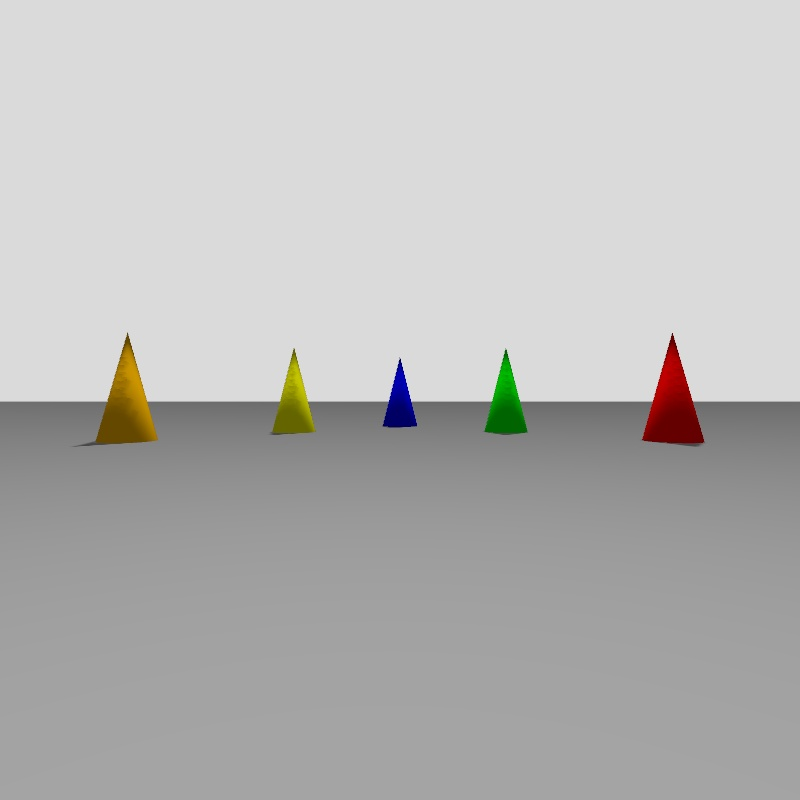Blue_cone: (383, 359, 415, 426)
Green_cone: (487, 350, 526, 432)
Orange_cone: (95, 335, 157, 443)
Red_cone: (642, 334, 703, 442)
Yellow_cone: (274, 350, 314, 433)
